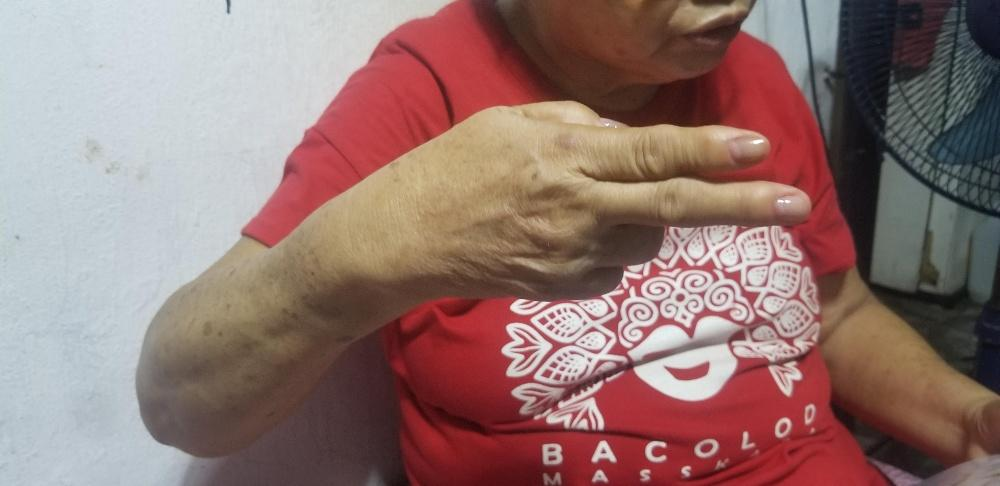h: (391, 98, 813, 304)
